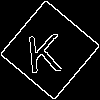K: (25, 25, 62, 73)
